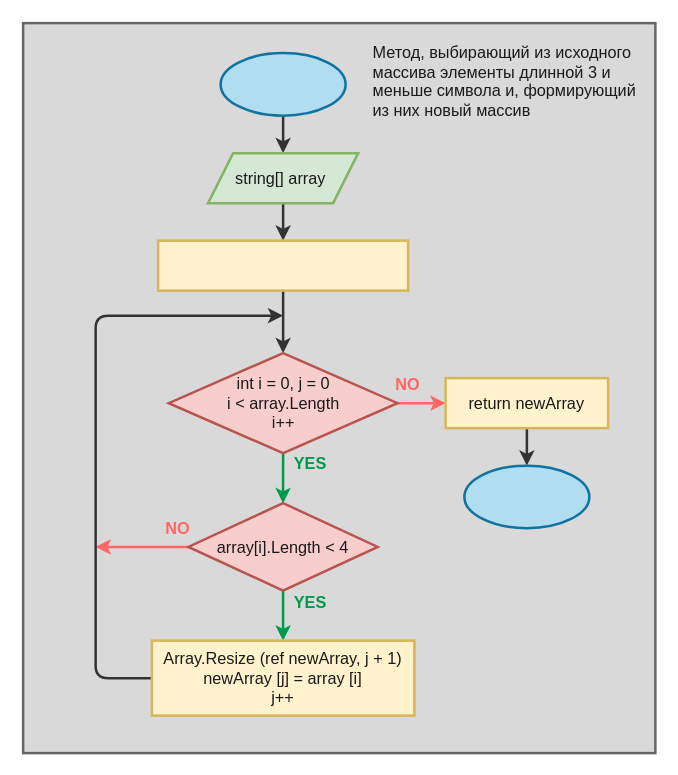
Some shapes in this 678 by 775 pixel diagram are drawn without their labels. The shapes that lost their labels are listed below. From the top down, each one's centre as x and y in pixels, then its label:
pixel 282 83: START
pixel 282 265: string[] newArray = new string[0]
pixel 526 496: FINISH
